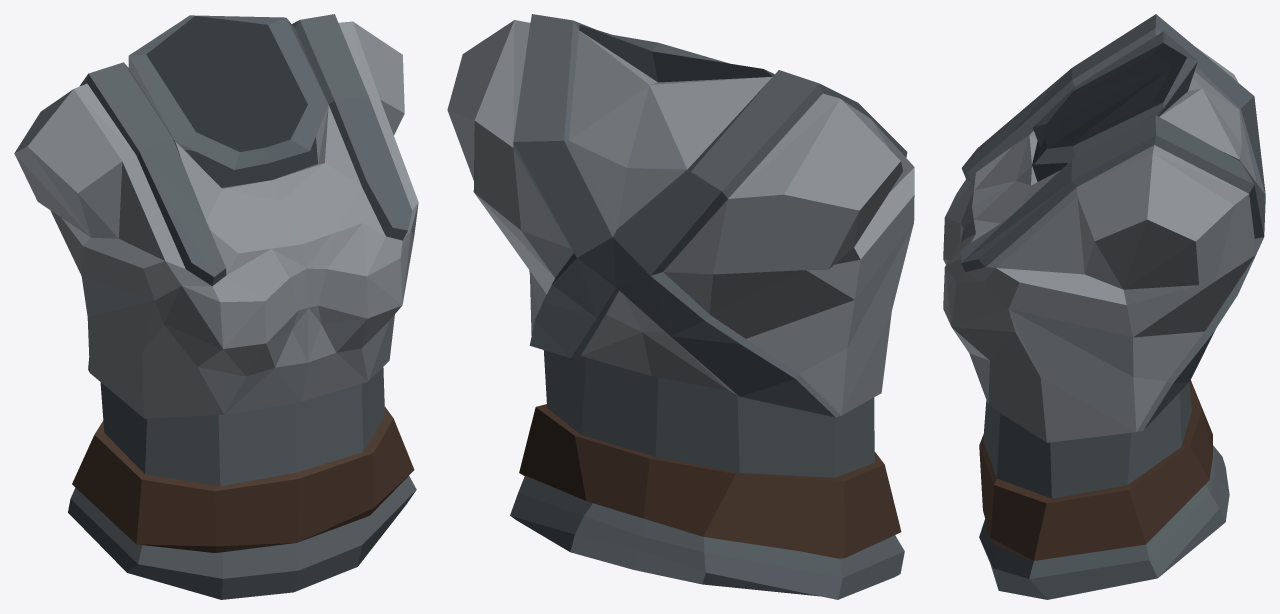
Rendered from Chr_Torso_Female_21_Static.fbx.
3 views of the same model, side by side, from view 1: azimuth 30°, elevation 25°; view 2: azimuth 150°, elevation 25°; view 3: azimuth 270°, elevation 25° (orthographic). The views are drawn at different scales.
Parts seen in each view (by area): view 1: Chr_Torso_Female_21_Static; view 2: Chr_Torso_Female_21_Static; view 3: Chr_Torso_Female_21_Static.
Part boxes in pixels (left/top/right/bottom): Chr_Torso_Female_21_Static: left=14, top=14, right=418, bottom=599; Chr_Torso_Female_21_Static: left=447, top=14, right=914, bottom=599; Chr_Torso_Female_21_Static: left=943, top=14, right=1265, bottom=599.
Size of the model in its own units: 0.5172 by 0.6703 by 0.384.
